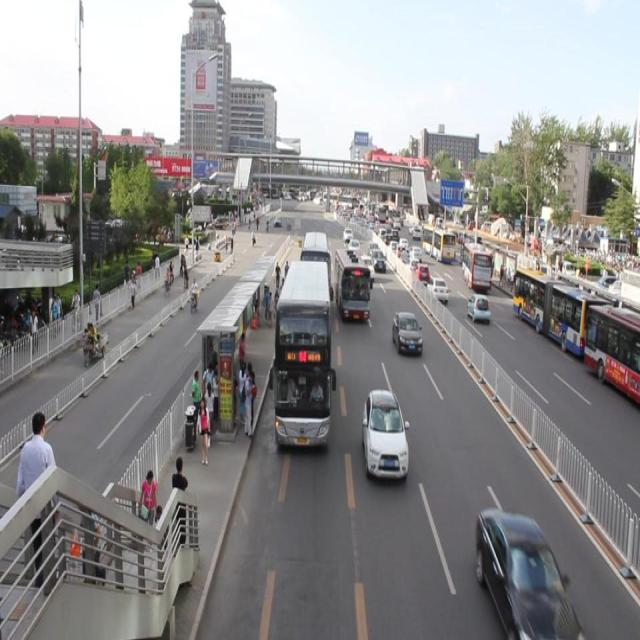car: (472, 507, 583, 640), (359, 387, 412, 482), (390, 309, 424, 356), (357, 252, 376, 284), (368, 245, 386, 273)
van: (268, 259, 338, 454), (331, 244, 375, 327), (297, 226, 334, 316)
